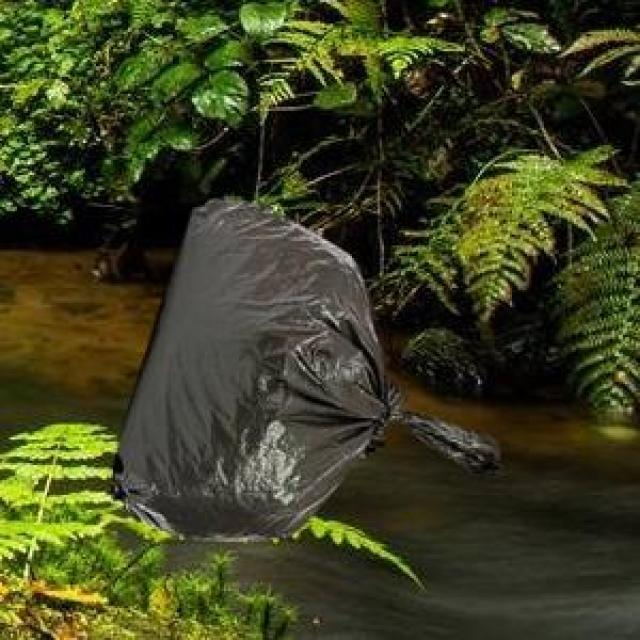miscellaneous trash: (107, 194, 497, 536)
